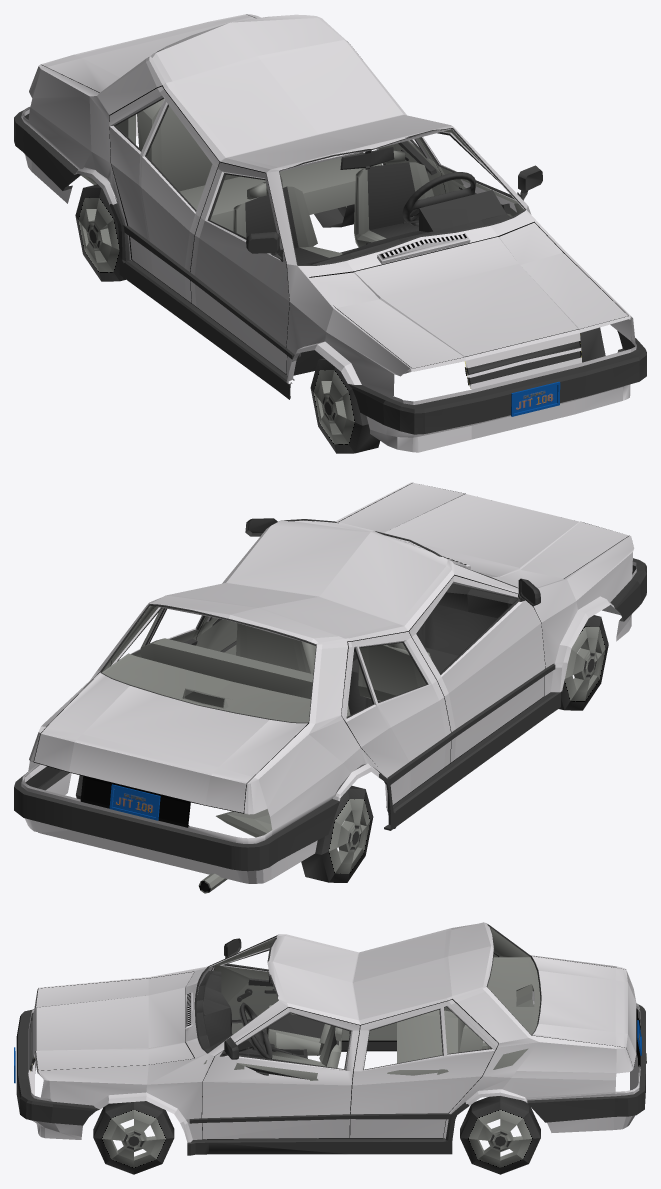
Rendered from Car_2.fbx.
3 views of the same model, one above another, from view 1: azimuth 30°, elevation 25°; view 2: azimuth 150°, elevation 25°; view 3: azimuth 270°, elevation 25° (orthographic). The views are drawn at different scales.
Parts seen in each view (by area): view 1: Car_2; view 2: Car_2; view 3: Car_2.
Boxes of the visible parts, x1,y1,x2,y2 form: Car_2: (14, 14, 646, 453); Car_2: (14, 482, 646, 893); Car_2: (14, 922, 646, 1174).
Bounding box in the file's own units: 180 × 137 × 432.
1 material, 1 textured.
